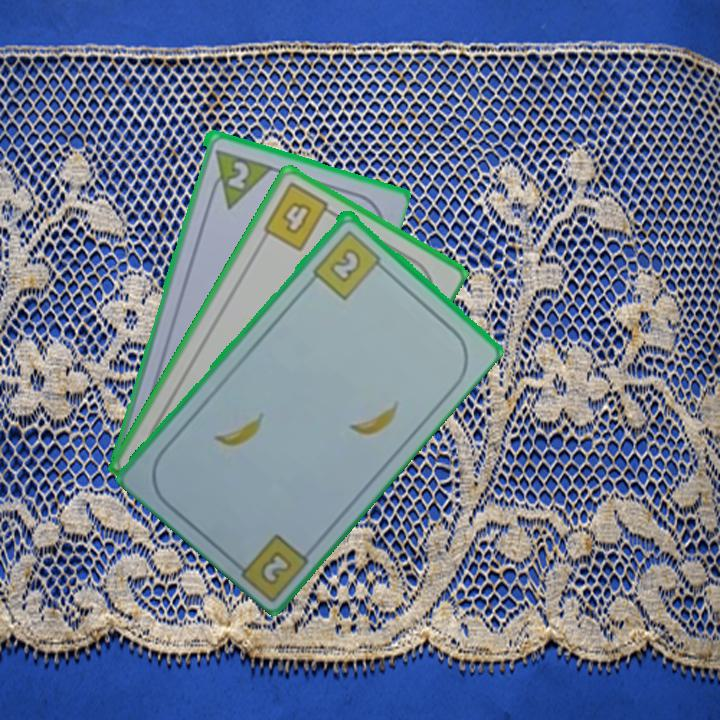2b: (309, 226, 389, 302), (256, 546, 295, 589)
2p: (203, 145, 273, 211)
4b: (259, 178, 340, 254)
